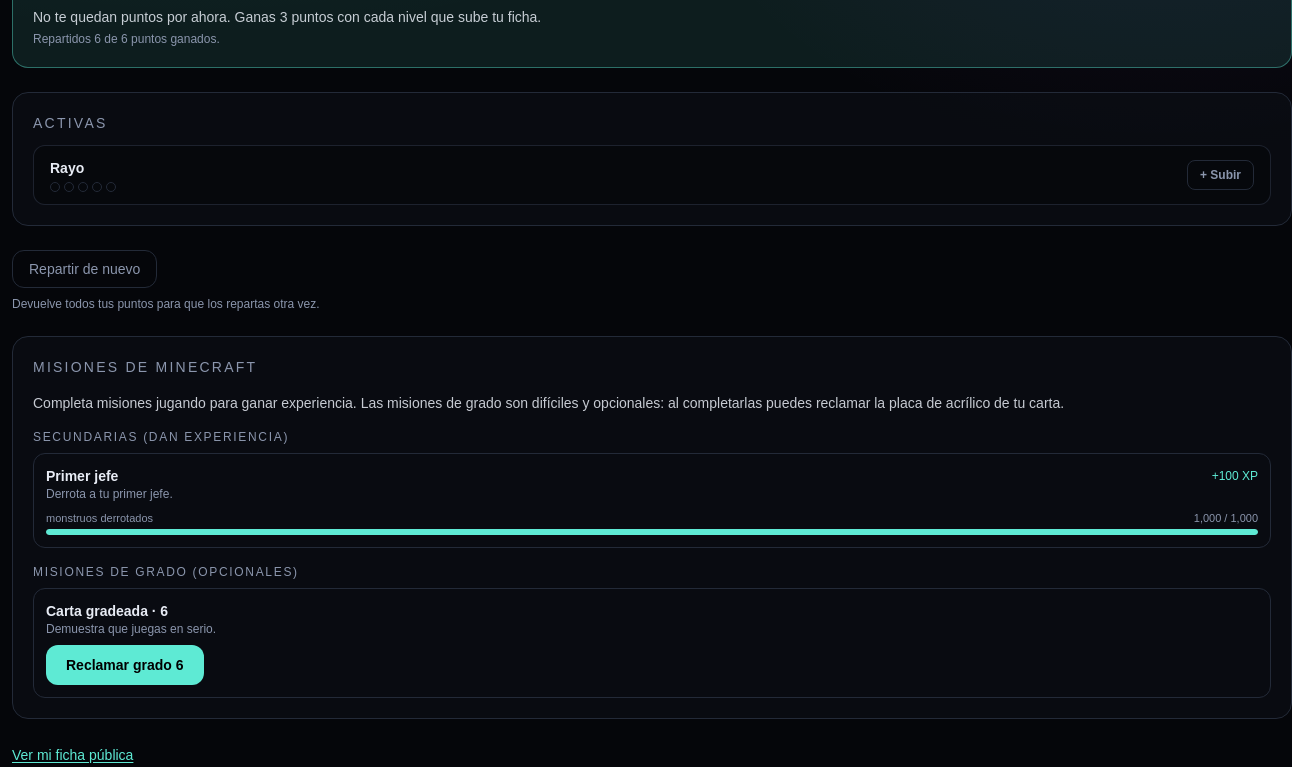
Test: MiFicha › misiones › lista las secundarias con su XP y pide confirmar antes de reclamar un grado
(page scrolled)
Check: the element with test id "mificha-misiones" is shown, box [12,336,1291,718]
Check: the list item with test id "mision-primer-jefe" shows "+100 XP", box [1212,469,1258,483]
What coordinates should you click on to do the following:
click the button "Reclamar grado 6"
I would click on:
 (125, 664)
Its box is [46,644,204,684].
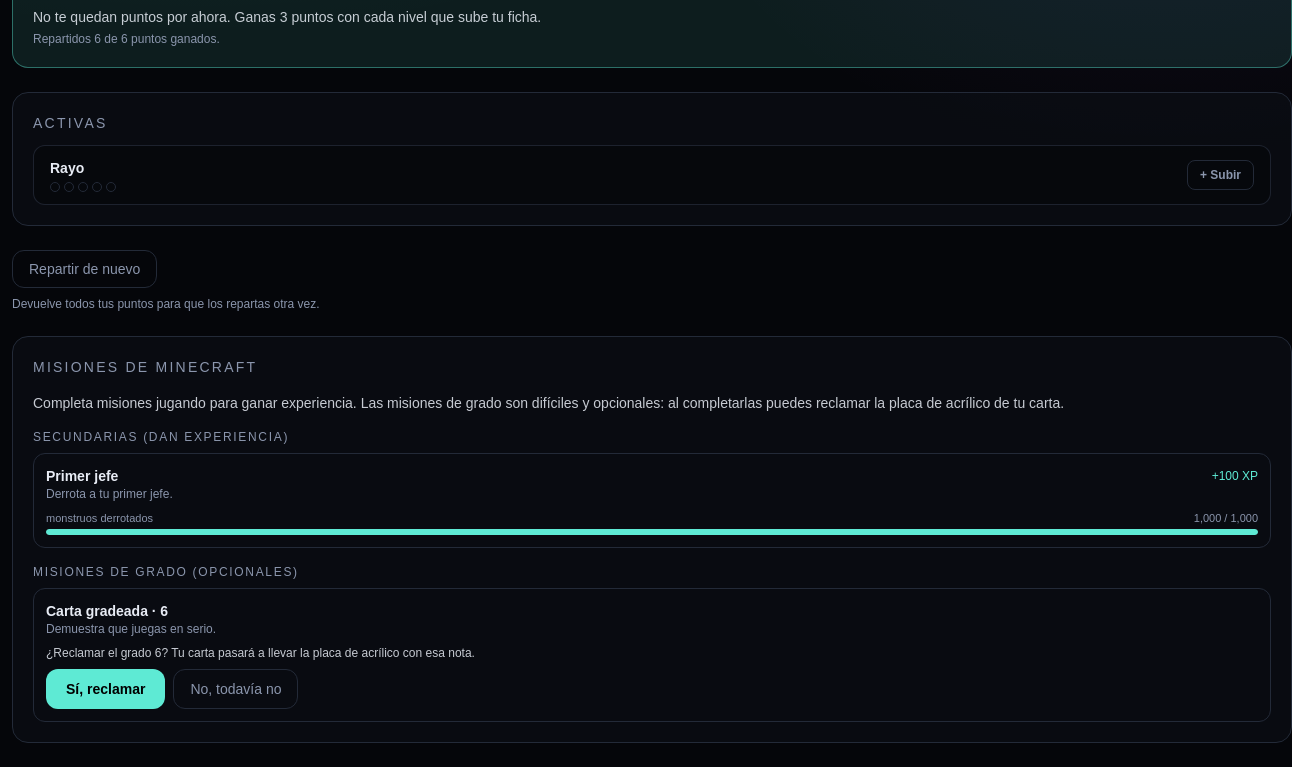
What coordinates should you click on to do the following:
click the button "Sí, reclamar"
I would click on:
 (106, 688)
Its box is [46,668,165,708].
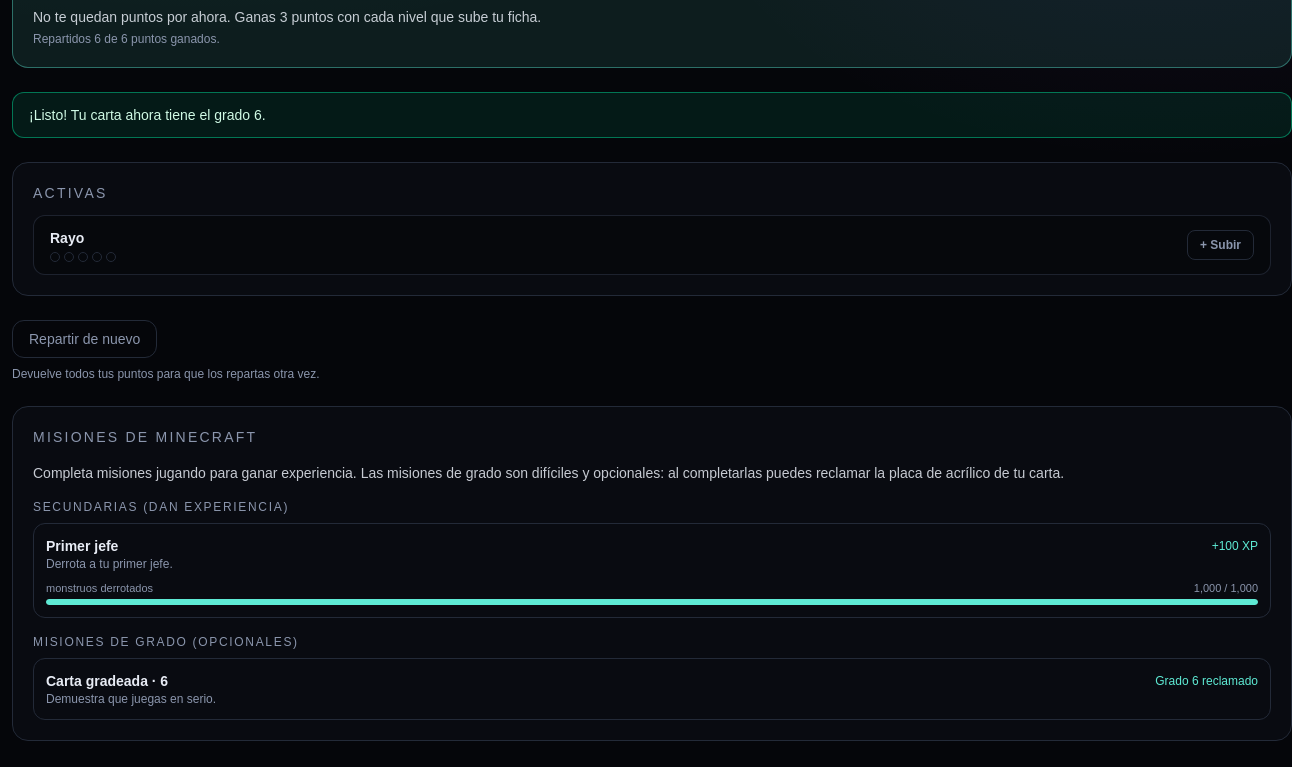
Check: the text "¡Listo! Tu carta ahora tiene el grado 6." is shown, box [12,92,1291,138]
Check: the list item with test id "mision-grado-6" shows "Grado 6 reclamado", box [1155,674,1258,688]
